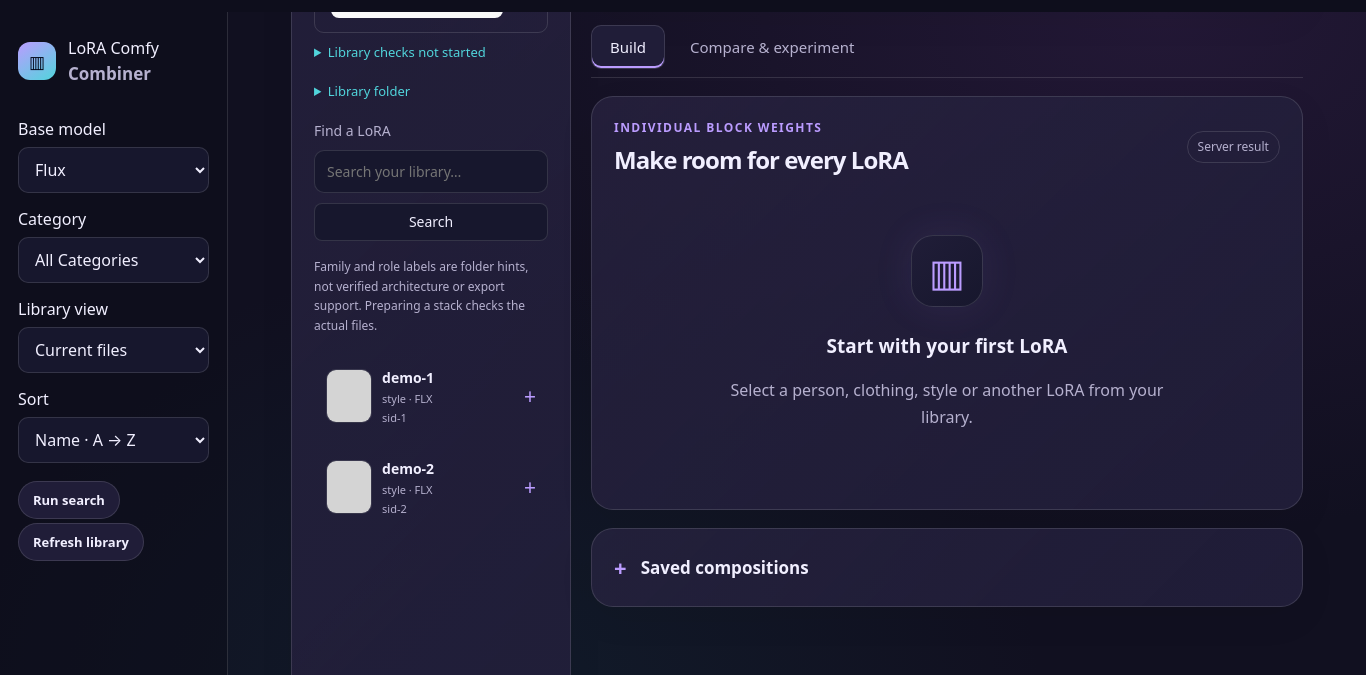
Test case: Studio integration › keeps copy unavailable throughout refresh, including old and attempted new preparation
The image size is (1366, 675).
(page scrolled)
Click the button "demo-1 style · FLX sid-1 +" at (431, 396), box [317,355,545,438]
(page scrolled)
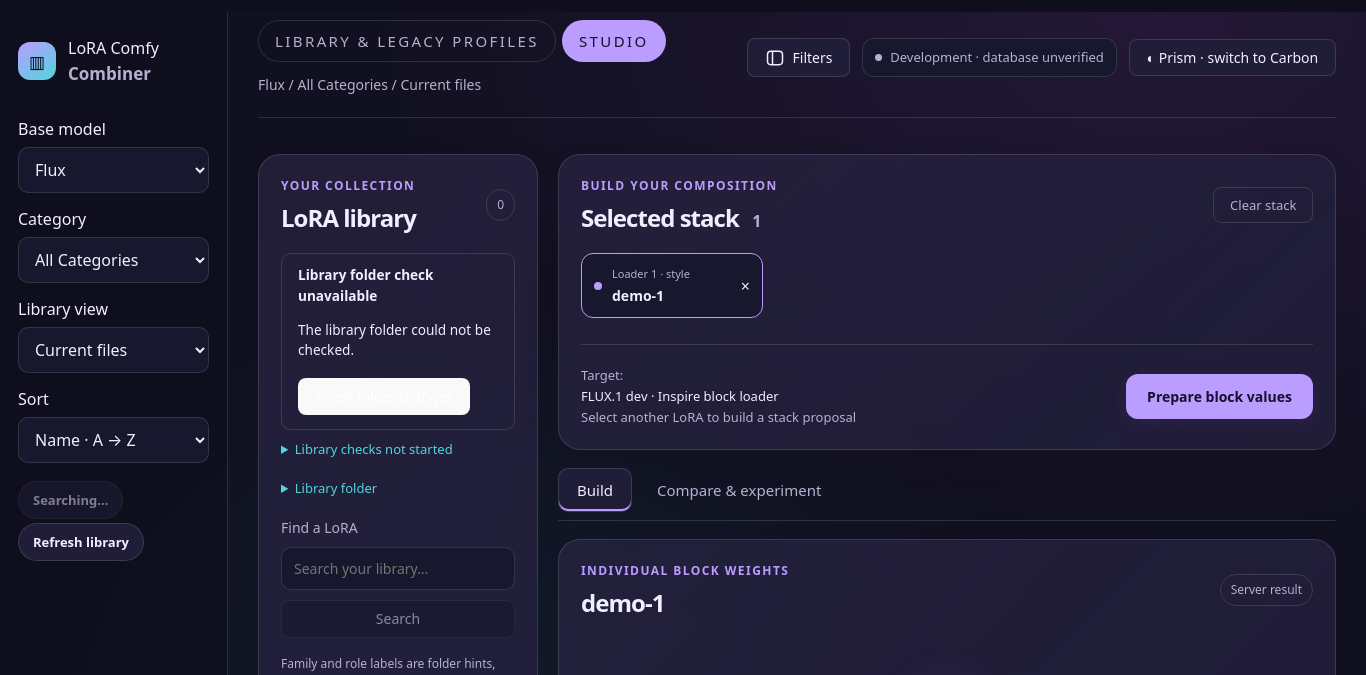
Click the button "Prepare block values" at (1220, 396), box [1126,374,1313,419]
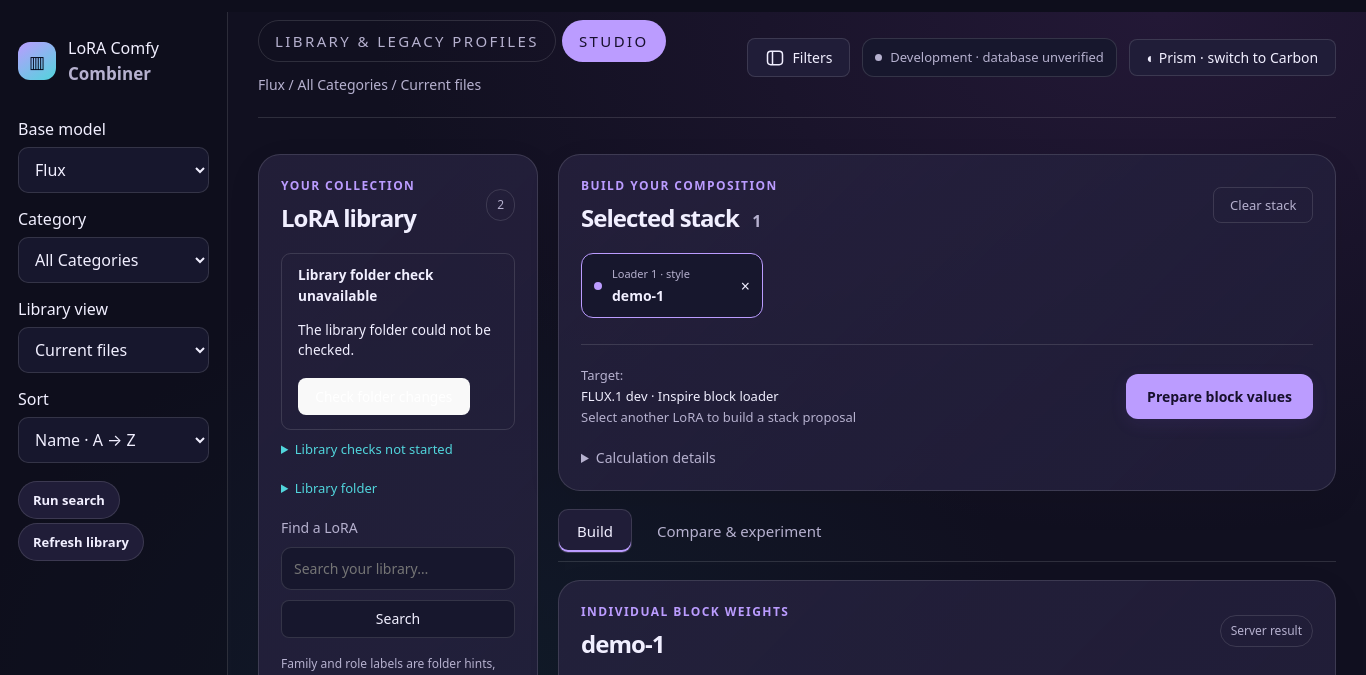
Click the button "Prepare block values" at (1220, 396), box [1126,374,1313,419]
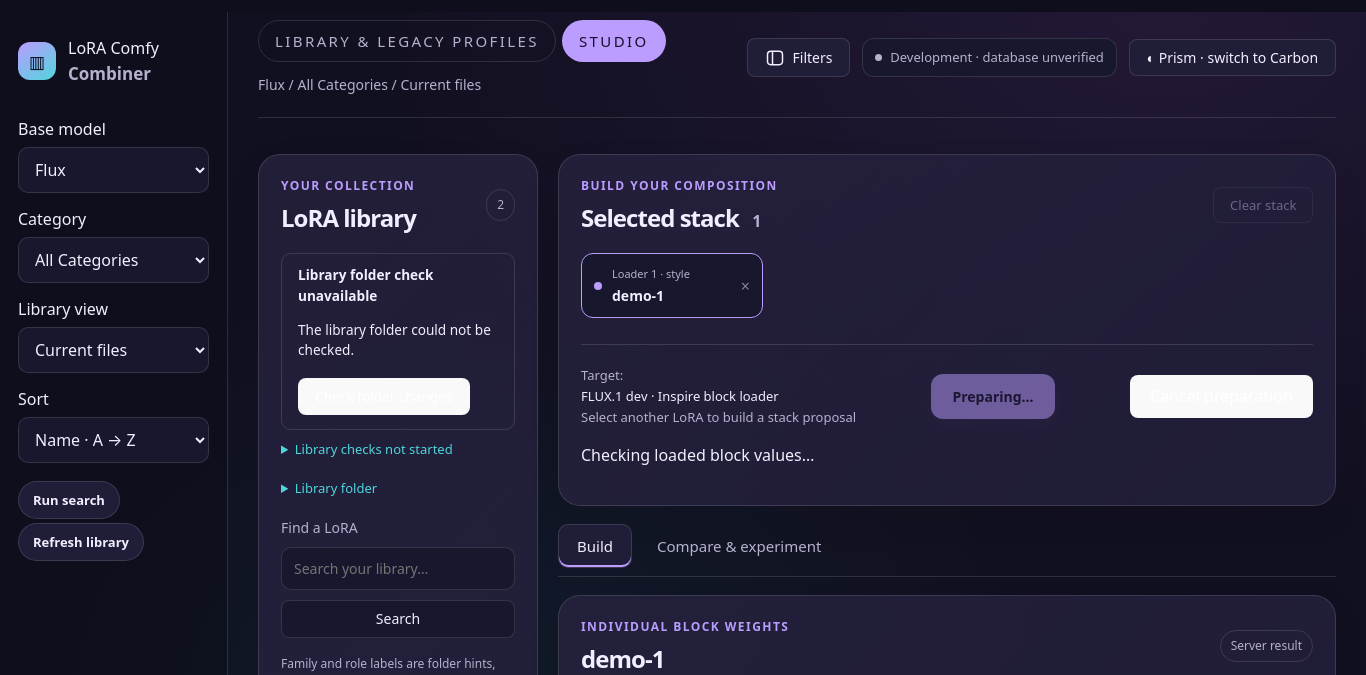
Click the button "Refresh library" at (81, 542), box [18,522,144,560]
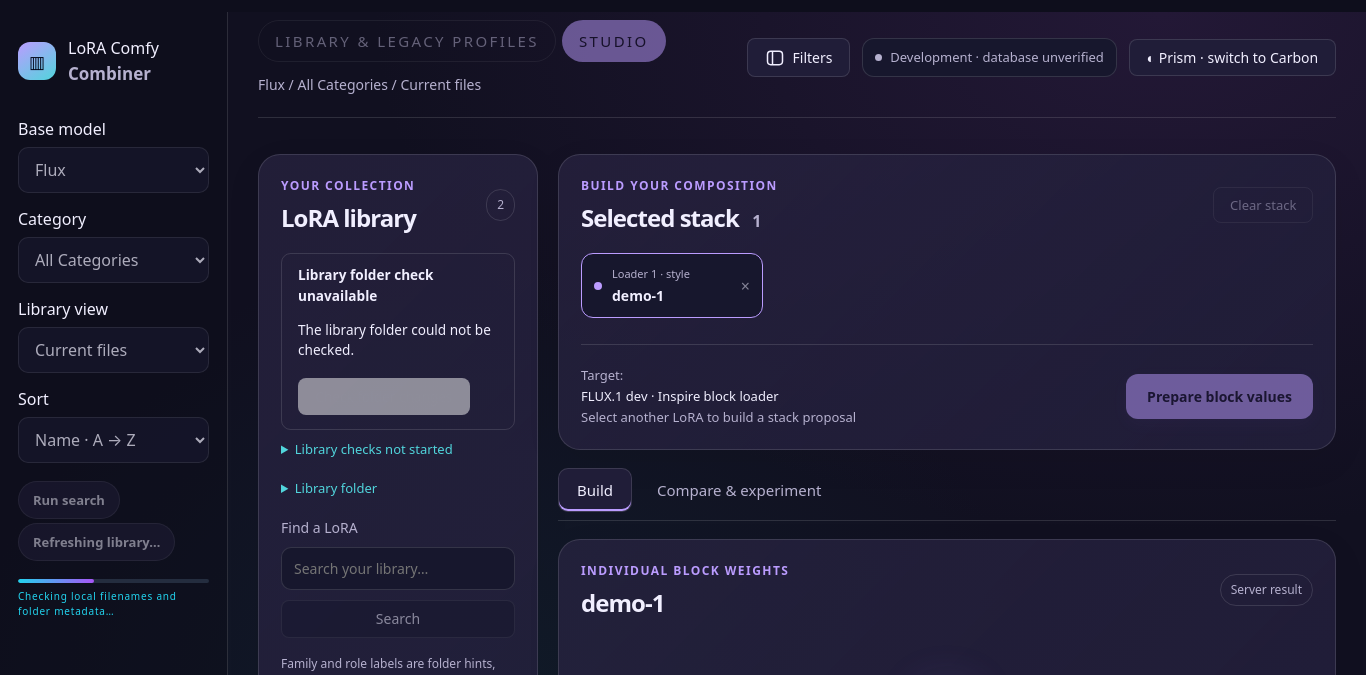
expect the button "Copy full vector" is not shown: met
expect the button "Prepare block values" is disabled: met
Click the button "Prepare block values" at (1220, 396), box [1126,374,1313,419]
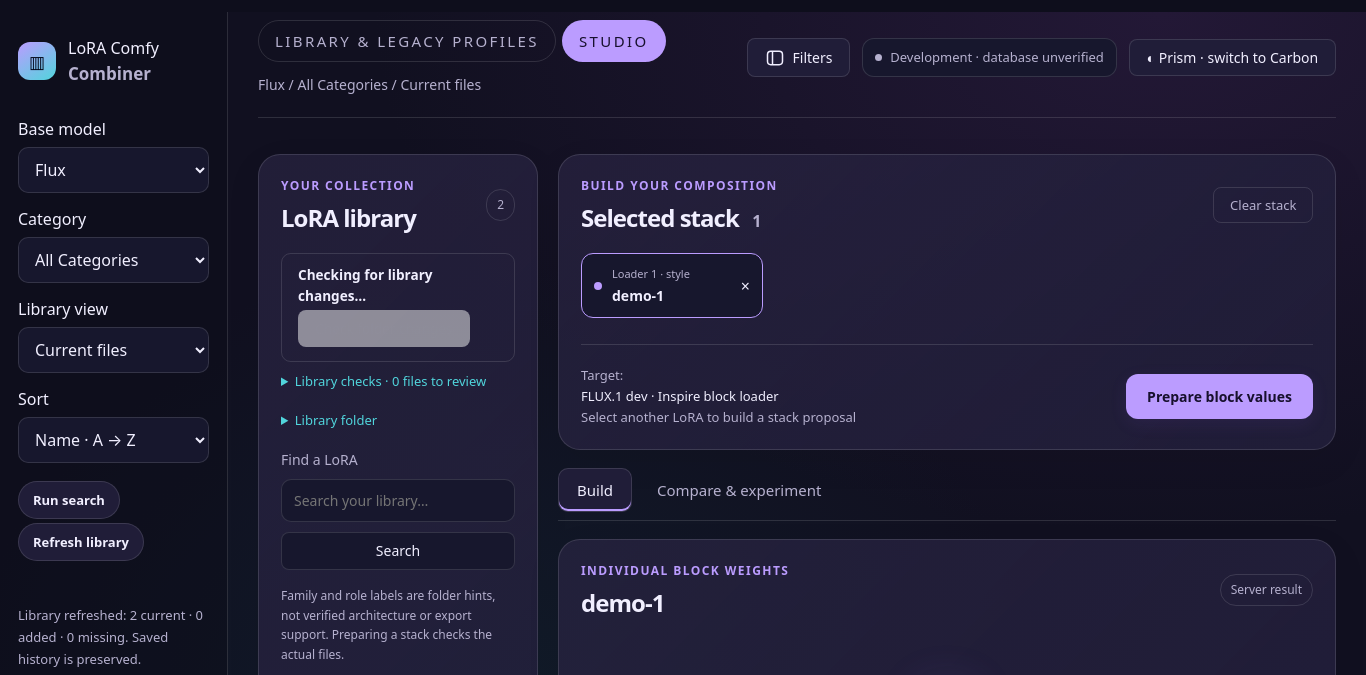
expect the button "Copy full vector" is not shown: met
expect the button "Prepare block values" is enabled: met
Click the button "Prepare block values" at (1220, 396), box [1126,374,1313,419]
(page scrolled)
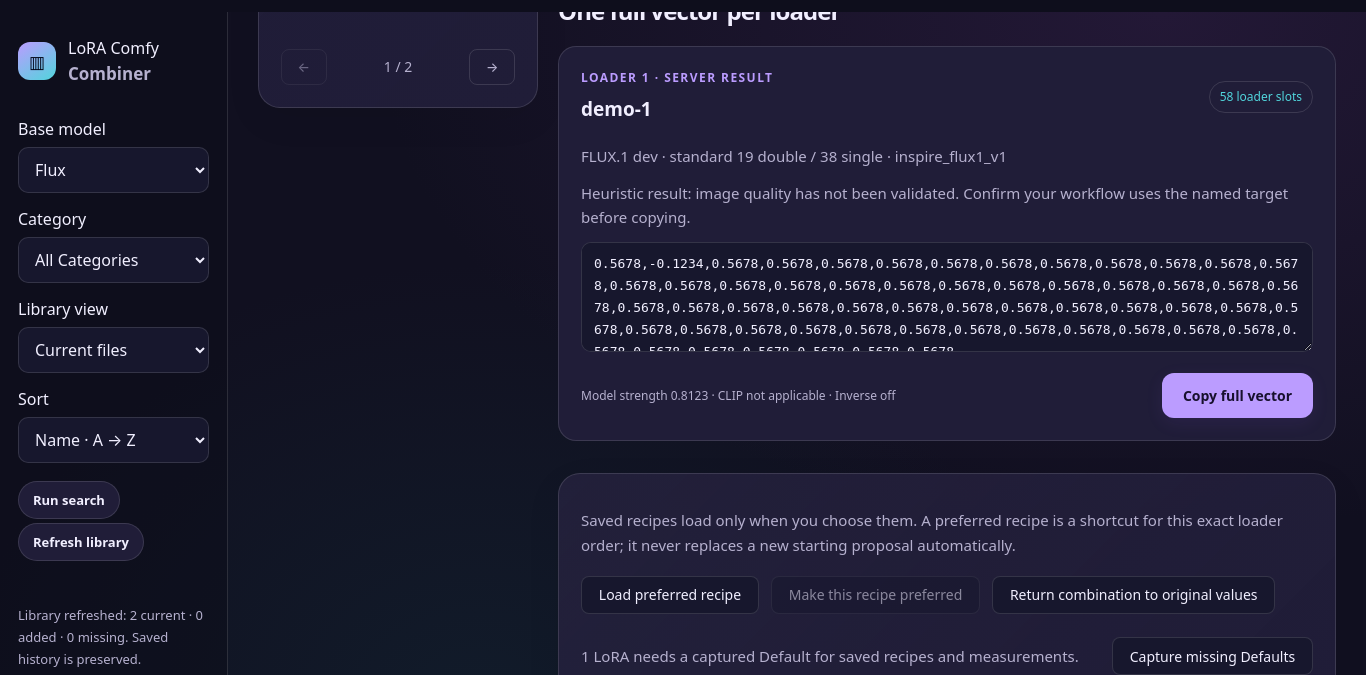
expect the element named "Full loader vectors" is shown: met, box [558,12,1336,455]
expect the button "Copy full vector" is shown: met, box [1162,373,1313,418]
